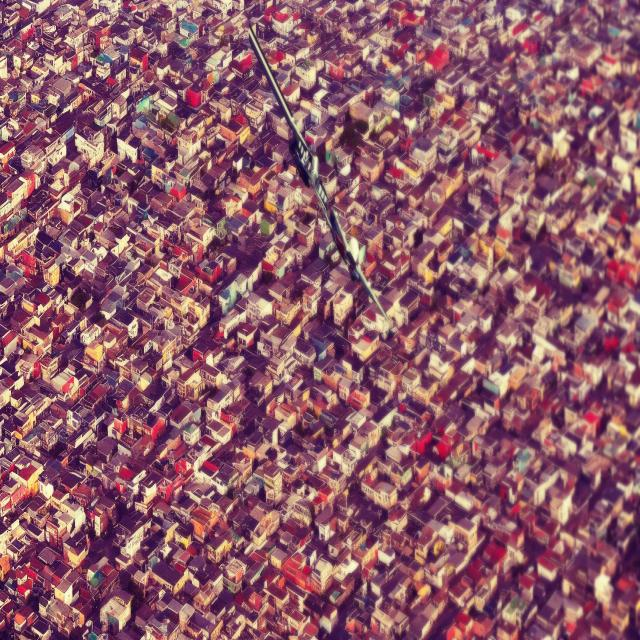airplane: (247, 23, 392, 337)
